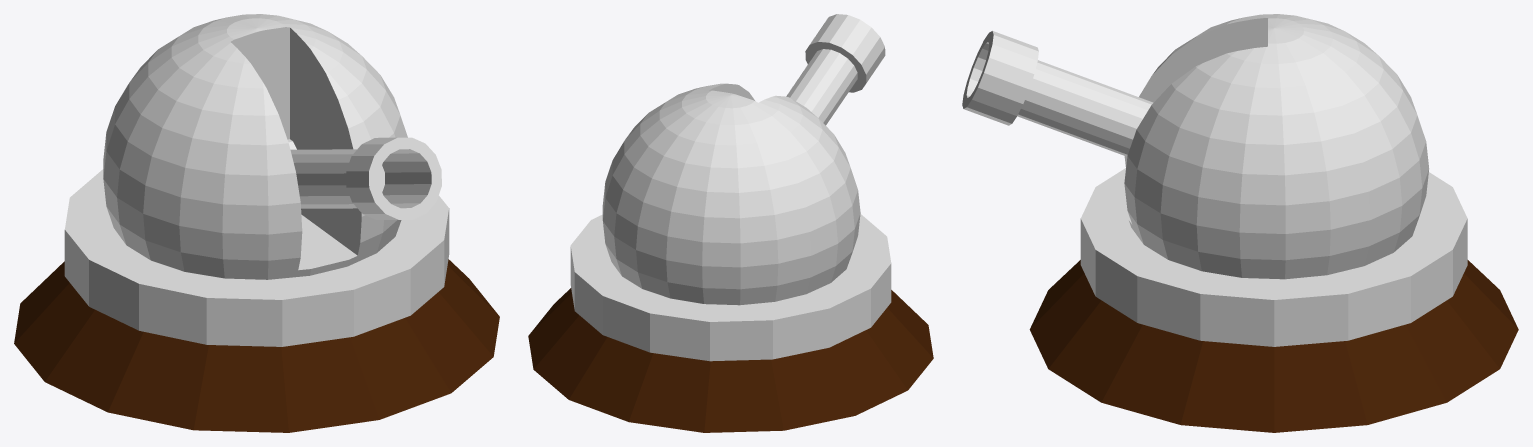
Rendered from Turret.fbx.
3 renders of one model, left to right at view 1: azimuth 30°, elevation 25°; view 2: azimuth 150°, elevation 25°; view 3: azimuth 270°, elevation 25°, orthographic. The views are drawn at different scales.
Parts seen in each view (by area): view 1: Ball, GunTurret, Rotate, Pipe; view 2: Ball, GunTurret, Rotate, Pipe; view 3: Ball, GunTurret, Rotate, Pipe.
Boxes of the visible parts, box(x1,y1,x2,y2) form: Ball: box(103, 14, 407, 279); GunTurret: box(14, 259, 499, 432); Rotate: box(64, 169, 449, 346); Pipe: box(290, 137, 441, 219); Ball: box(602, 83, 860, 305); GunTurret: box(528, 288, 933, 432); Rotate: box(570, 214, 891, 361); Pipe: box(786, 14, 885, 125); Ball: box(1124, 14, 1429, 279); GunTurret: box(1029, 260, 1518, 432); Rotate: box(1080, 168, 1467, 346); Pipe: box(962, 31, 1153, 156).
Bounding box in the file's own units: 681 × 463 × 775.
